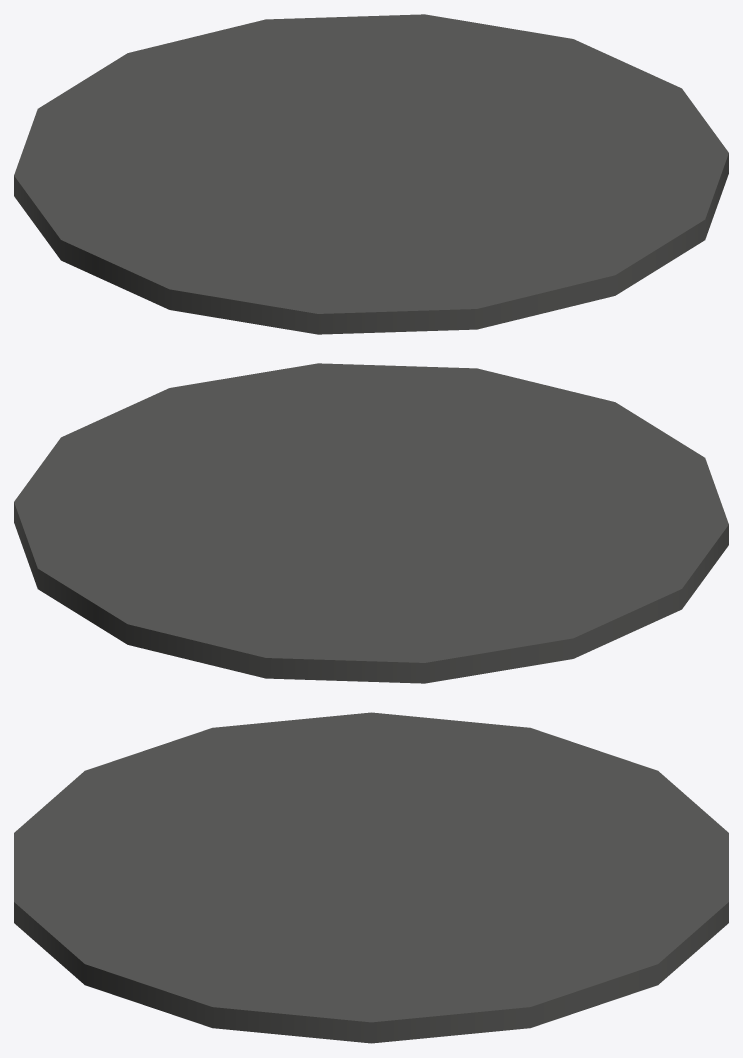
The model's file is ManholeCover_01.fbx.
3 renders of one model, top to bottom at view 1: azimuth 30°, elevation 25°; view 2: azimuth 150°, elevation 25°; view 3: azimuth 270°, elevation 25°, orthographic. The views are drawn at different scales.
Parts seen in each view (by area): view 1: ManholeCover_01; view 2: ManholeCover_01; view 3: ManholeCover_01.
Part boxes in pixels (box(x1,y1,x2,y2)): ManholeCover_01: box(14, 14, 728, 334); ManholeCover_01: box(14, 363, 728, 683); ManholeCover_01: box(14, 712, 728, 1043).
Bounding box in the file's own units: 530 × 16.8 × 516.
